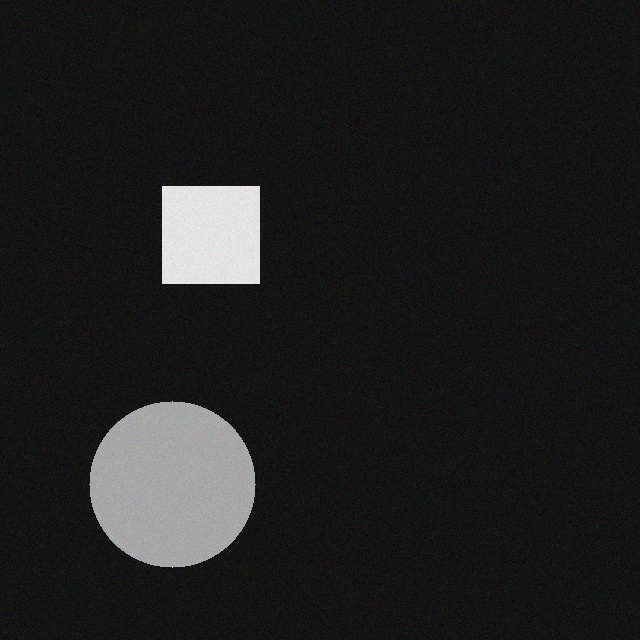circle: (87, 389, 253, 555)
square: (160, 174, 257, 271)
